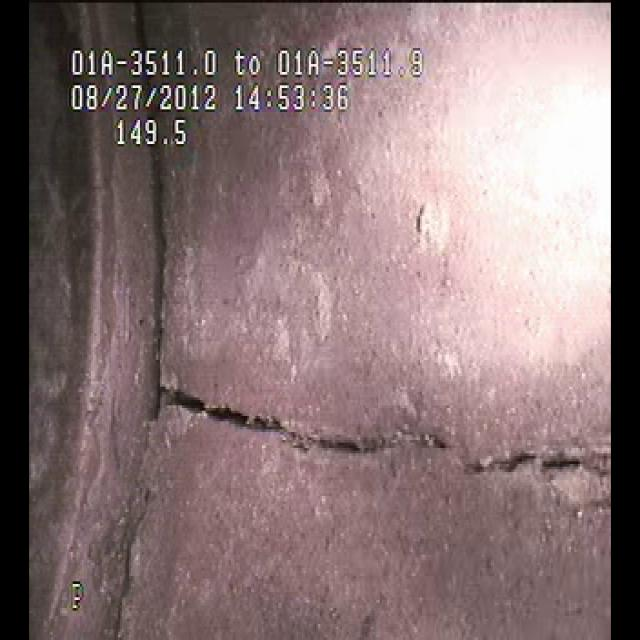Crack: (173, 324, 562, 527)
